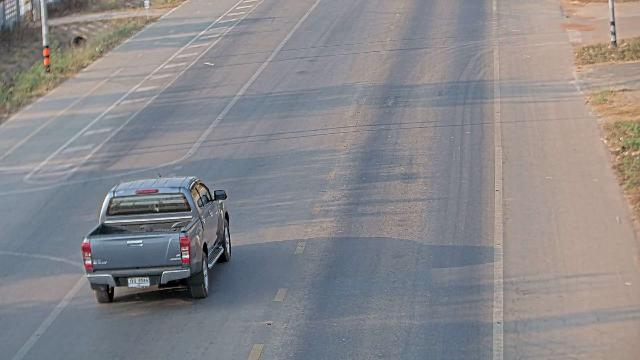pickup-truck: (80, 174, 232, 303)
